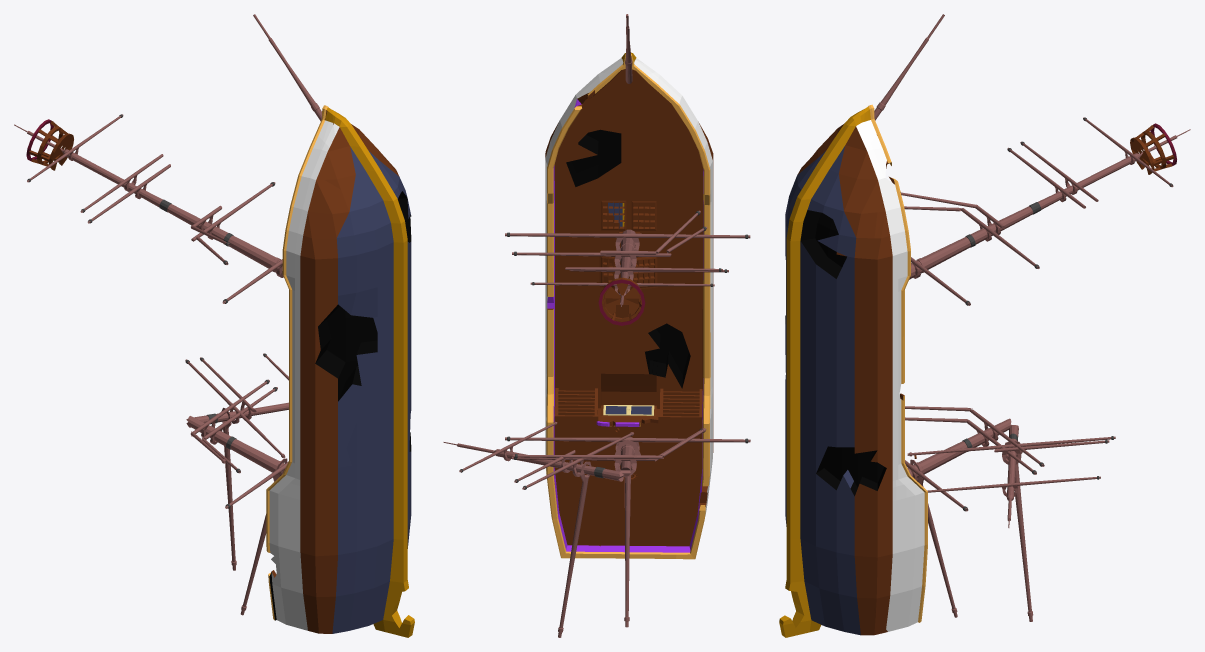
The model's file is pirateShipBroken.fbx.
3 renders of one model, left to right at view 1: azimuth 30°, elevation 25°; view 2: azimuth 150°, elevation 25°; view 3: azimuth 270°, elevation 25°, orthographic.
Visible parts, largest first — view 1: fullShip; view 2: fullShip; view 3: fullShip.
Part boxes in pixels (x1,y1,x2,y2): fullShip: (14,14,414,637); fullShip: (443,14,750,637); fullShip: (779,14,1190,637).
Size of the model in its own units: 908 by 1049 by 1705.
